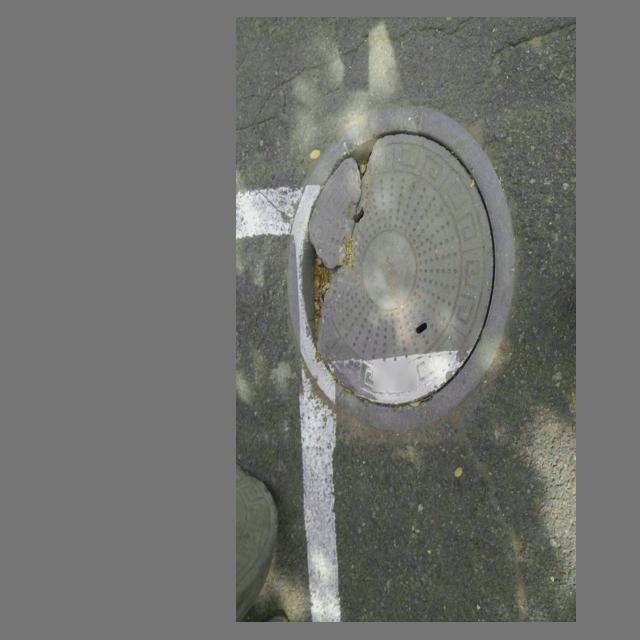broke: (288, 106, 515, 432)
